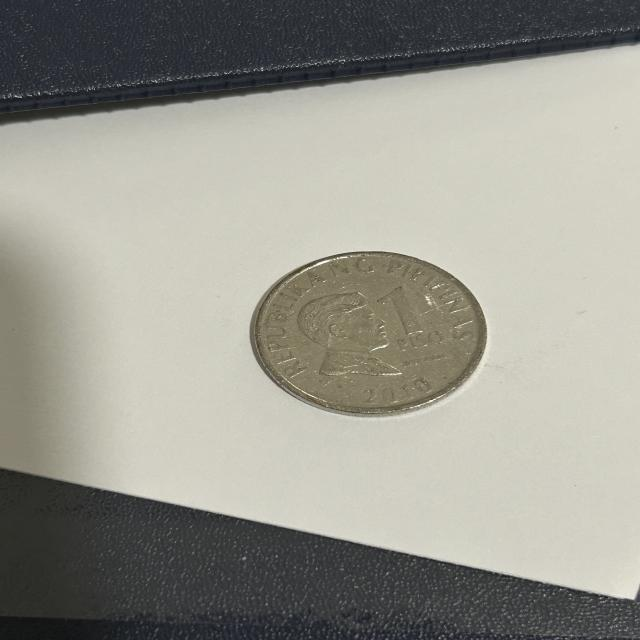1_Old_Front: (377, 286, 448, 352)
